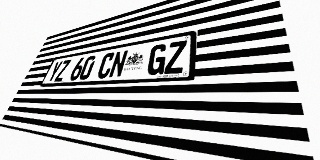0: (78, 55, 97, 80)
6: (68, 57, 87, 81)
C: (96, 52, 116, 79)
G: (146, 43, 168, 75)
N: (108, 50, 129, 78)
Y: (46, 61, 63, 82)
Z: (164, 40, 187, 74), (54, 59, 71, 82)
